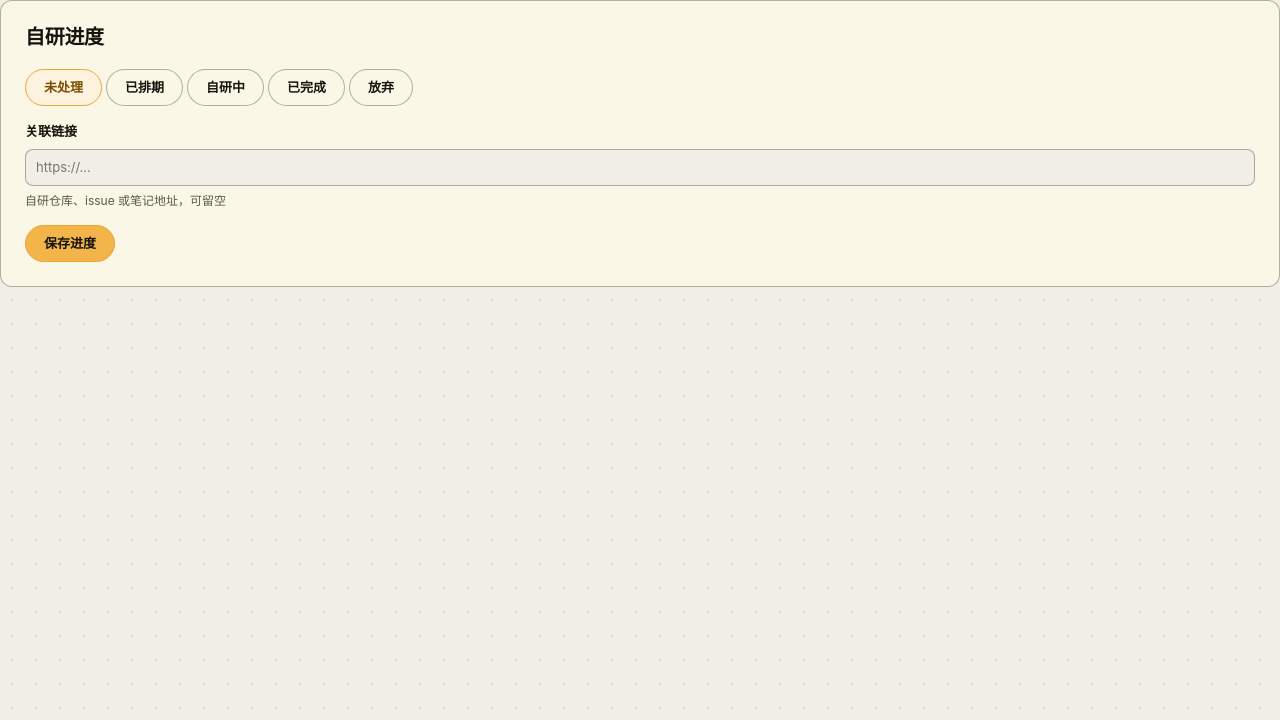
Scenario: ProgressControl › reports a thrown action as a generic error
Click the button "保存进度". click: (70, 243)
box: [25,225,115,262]
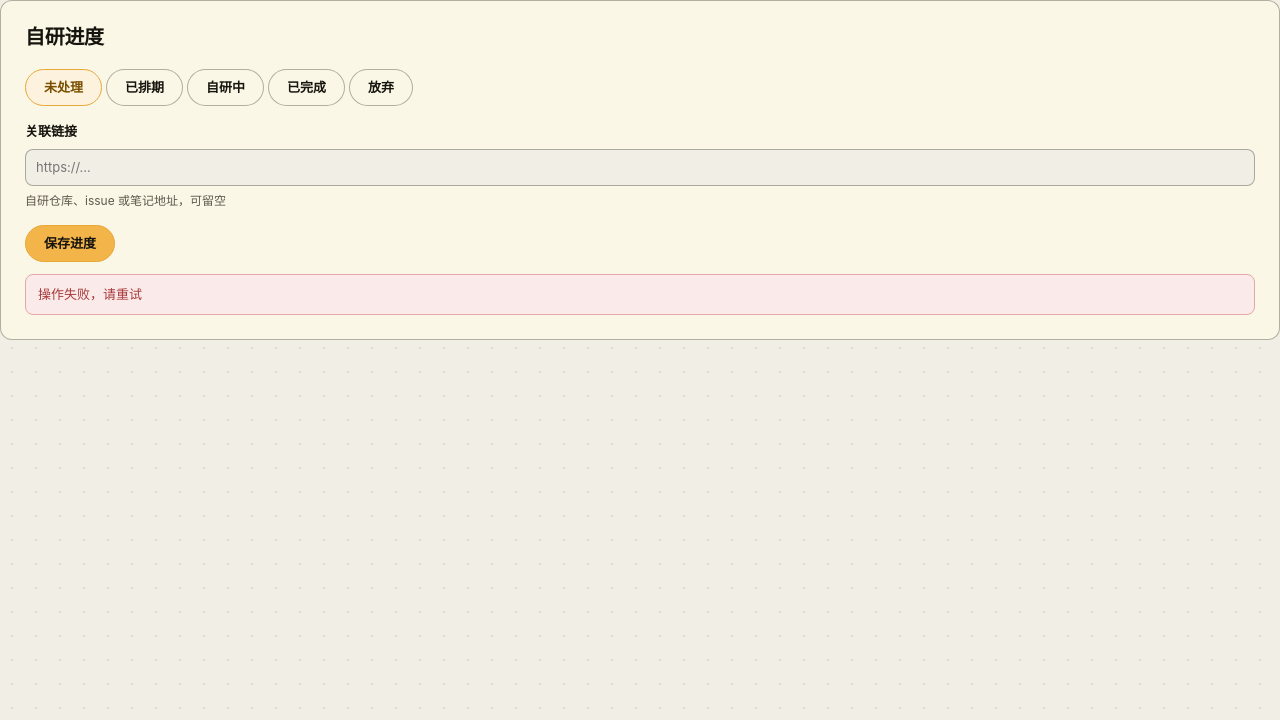
Check: the text "操作失败，请重试" is shown, box [25,274,1255,315]
